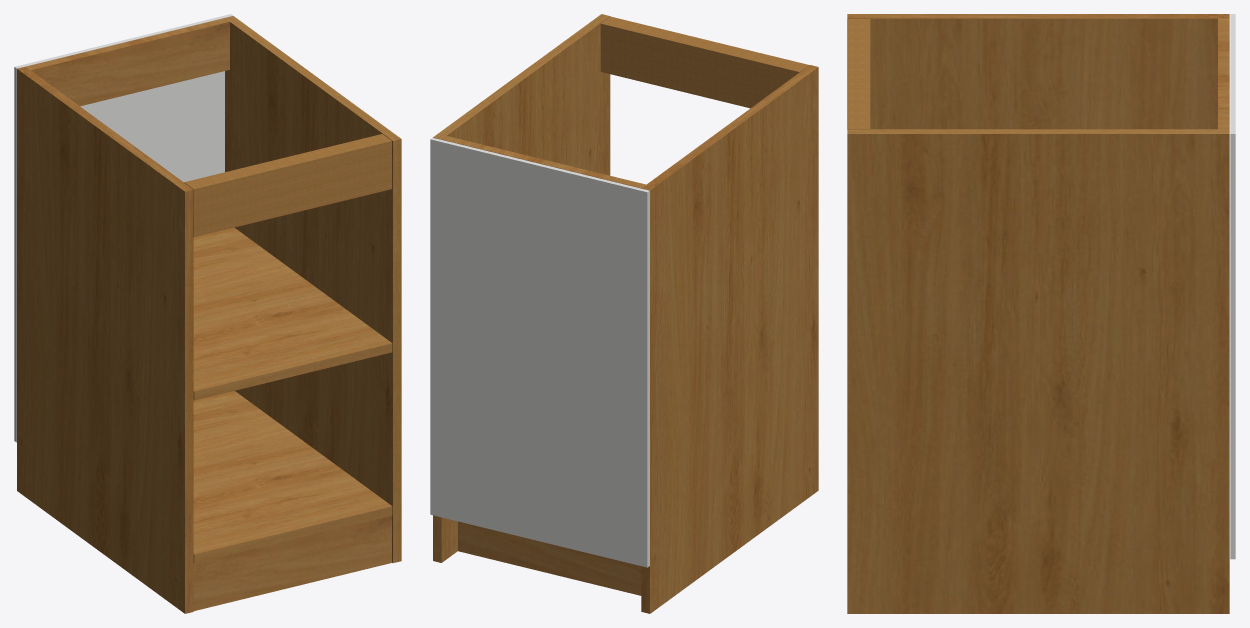
File: modul1glb.gltf
The picture shows the model from 3 angles, left to right: view 1: azimuth 30°, elevation 25°; view 2: azimuth 150°, elevation 25°; view 3: azimuth 270°, elevation 25°; orthographic projection. The views are drawn at different scales.
Parts seen in each view (by area): view 1: 29752, 29747, 29753, 29745, 29750, 29751, 29744, 29749, 29748; view 2: 29750, 29752, 29747, 29748, 29746, 29749, 29751; view 3: 29747, 29752, 29750, 29749, 29748, 29751.
Boxes of the visible parts, x1,y1,x2,y2 form: 29752: (17,66,193,613); 29747: (225,16,401,562); 29753: (193,227,392,400); 29745: (193,391,392,563); 29750: (14,14,232,442); 29751: (189,137,391,237); 29744: (193,515,391,610); 29749: (26,18,229,106); 29748: (184,134,386,185); 29750: (430,137,649,567); 29752: (641,65,818,613); 29747: (433,14,610,562); 29748: (600,20,804,108); 29746: (458,521,641,595); 29749: (441,136,645,188); 29751: (606,16,809,68); 29747: (847,129,1229,613); 29752: (847,14,1229,129); 29750: (1230,14,1235,559); 29749: (1218,18,1229,129); 29748: (859,19,870,129); 29751: (848,19,859,129).
Size of the model in its own units: 0.424 by 0.79 by 0.579.
Materials: 84 (72 with a texture image).
